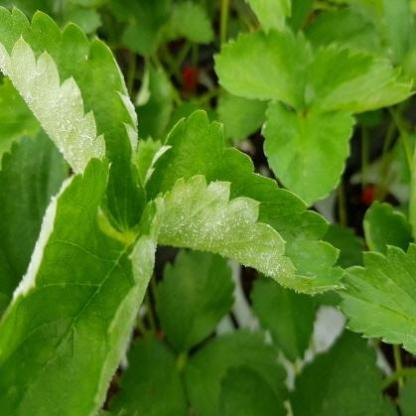Strawberry_Powdery_Mildew_Leaf: (0, 154, 165, 415), (143, 110, 347, 295), (0, 6, 148, 229)
